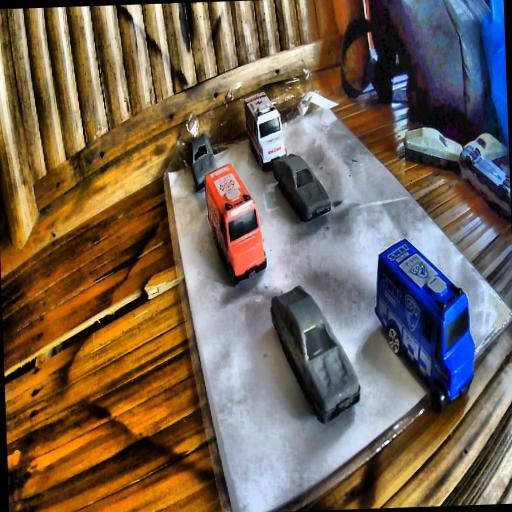ambulance: (242, 89, 283, 171)
fire_truck: (204, 161, 266, 285)
normal_car: (269, 282, 359, 424), (270, 149, 332, 224), (188, 132, 218, 192)
police car: (370, 237, 474, 414)
